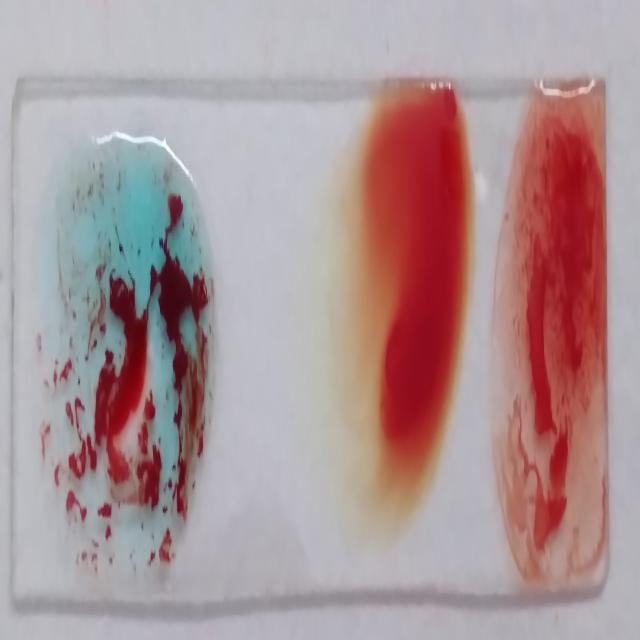A: (40, 143, 210, 584)
D: (492, 81, 607, 596)
